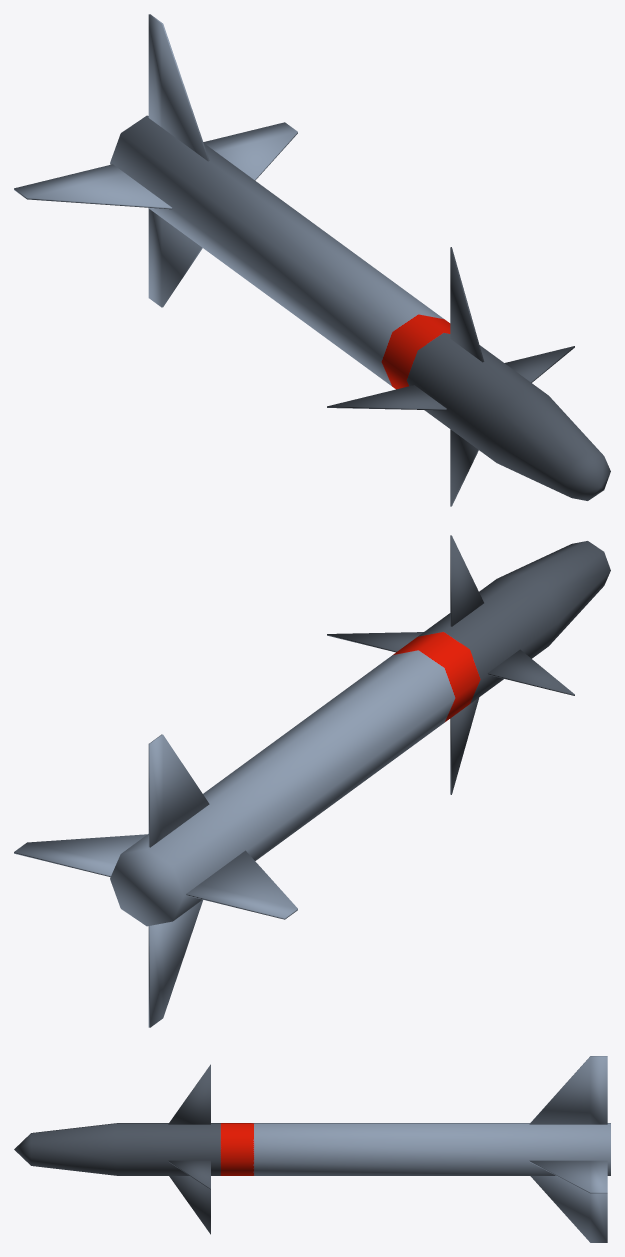
File: aim9.gltf
3 views of the same model, one above another, from view 1: azimuth 30°, elevation 25°; view 2: azimuth 150°, elevation 25°; view 3: azimuth 270°, elevation 25° (orthographic). The views are drawn at different scales.
Visible parts, largest first — view 1: Circle; view 2: Circle; view 3: Circle.
Part boxes in pixels (x1,y1,x2,y2): Circle: [14, 14, 610, 506]; Circle: [14, 535, 610, 1027]; Circle: [14, 1056, 610, 1242].
Size of the model in its own units: 1.2 by 1.2 by 3.49.
3 materials, 1 textured.
